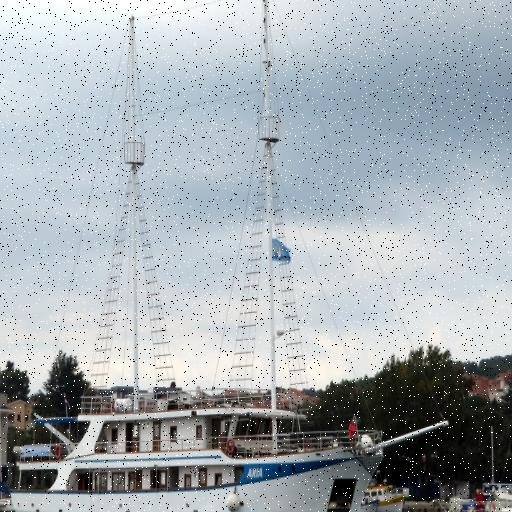cruises: (6, 1, 453, 512)
